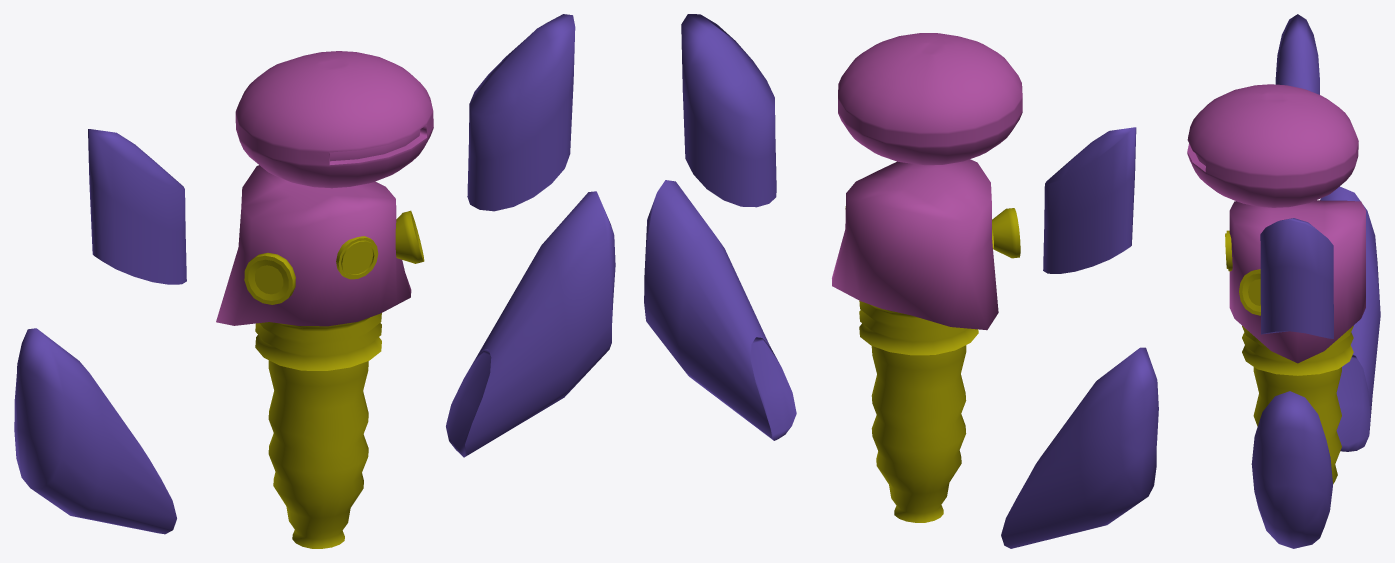
The model's file is GroundBot.fbx.
3 renders of one model, left to right at view 1: azimuth 30°, elevation 25°; view 2: azimuth 150°, elevation 25°; view 3: azimuth 270°, elevation 25°, orthographic. The views are drawn at different scales.
Visible parts, largest first — view 1: RightArm2, Head, Legs, GroundBotChest, LeftArm2, RightArm1, LeftArm1, Speaker_2, Eyes, Speaker_1; view 2: GroundBotChest, RightArm2, Head, LeftArm2, Legs, RightArm1, LeftArm1, Speaker_2; view 3: Head, GroundBotChest, RightArm2, RightArm1, Legs, LeftArm2, LeftArm1, Speaker_1, Eyes.
Part boxes in pixels (<box>): RightArm2: <box>446,191,615,457</box>; Head: <box>235,51,433,188</box>; Legs: <box>255,313,381,548</box>; GroundBotChest: <box>216,165,411,326</box>; LeftArm2: <box>14,328,176,534</box>; RightArm1: <box>467,14,575,211</box>; LeftArm1: <box>88,129,186,284</box>; Speaker_2: <box>244,252,295,304</box>; Eyes: <box>336,236,378,279</box>; Speaker_1: <box>395,210,424,263</box>; GroundBotChest: <box>832,159,998,330</box>; RightArm2: <box>644,180,796,440</box>; Head: <box>838,33,1022,165</box>; LeftArm2: <box>1001,347,1158,548</box>; Legs: <box>859,300,978,522</box>; RightArm1: <box>681,14,776,207</box>; LeftArm1: <box>1043,127,1136,273</box>; Speaker_2: <box>992,208,1020,258</box>; Head: <box>1187,84,1358,207</box>; GroundBotChest: <box>1229,200,1365,363</box>; RightArm2: <box>1251,391,1332,548</box>; RightArm1: <box>1260,218,1333,338</box>; Legs: <box>1242,326,1353,484</box>; LeftArm2: <box>1320,186,1380,451</box>; LeftArm1: <box>1275,14,1319,94</box>; Speaker_1: <box>1239,269,1260,315</box>; Eyes: <box>1225,230,1232,271</box>.
Bounding box in the file's own units: 234 × 193 × 79.25.
